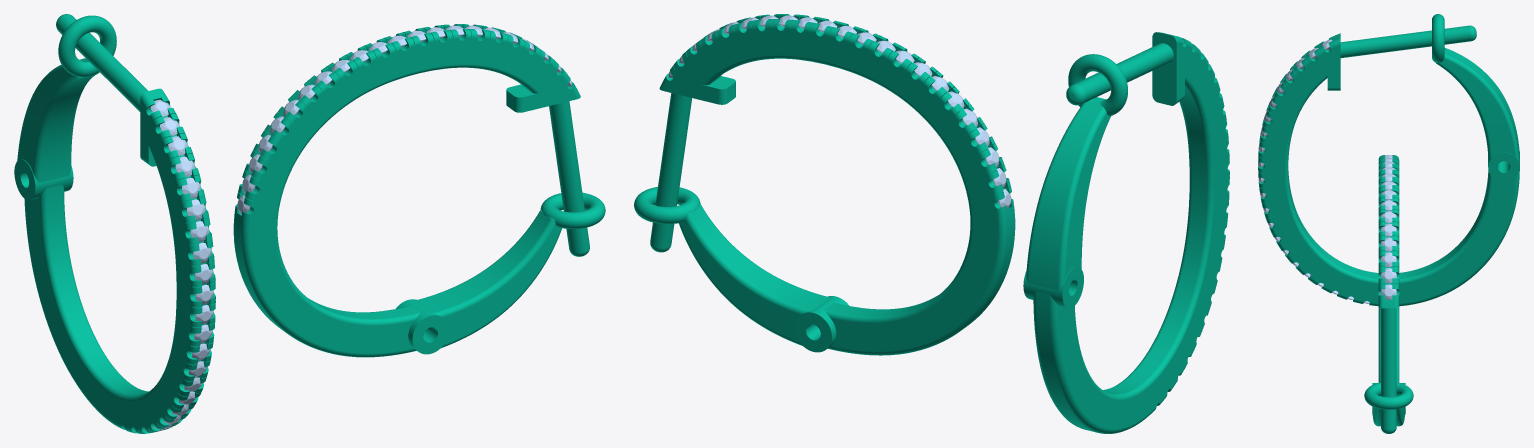
3 views of the same model, side by side, from view 1: azimuth 30°, elevation 25°; view 2: azimuth 150°, elevation 25°; view 3: azimuth 270°, elevation 25° (orthographic). The views are drawn at different scales.
Parts seen in each view (by area): view 1: VEAR144.3dm; view 2: VEAR144.3dm; view 3: VEAR144.3dm.
Boxes of the visible parts, box(x1,y1,x2,y2) form: VEAR144.3dm: box(14, 14, 605, 433); VEAR144.3dm: box(634, 14, 1229, 433); VEAR144.3dm: box(1258, 14, 1519, 433).
Size of the model in its own units: 2.94 by 2.09 by 1.73.
